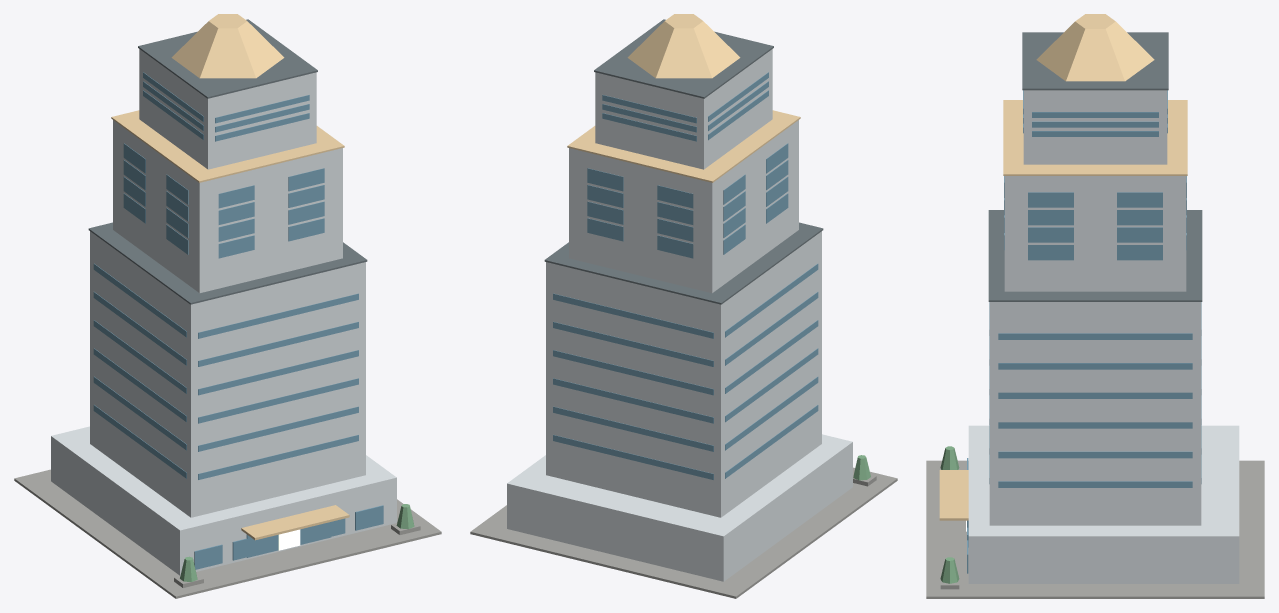
The model's file is crown-quarter.glb.
3 renders of one model, left to right at view 1: azimuth 30°, elevation 25°; view 2: azimuth 150°, elevation 25°; view 3: azimuth 270°, elevation 25°, orthographic. The views are drawn at different scales.
Parts seen in each view (by area): view 1: metro_lower_mass.001, metro_mid_mass.001, metro_podium.001, metro_upper_mass.001, metro_podium_slab.001, metro_crown.001, metro_lower_cornice.001, metro_upper_cornice.001, metro_mid_cornice.001, metro_canopy.001, metro_lower_glass_ns.018, metro_lower_glass_ns.022 (+24 smaller); view 2: metro_lower_mass.001, metro_podium.001, metro_mid_mass.001, metro_upper_mass.001, metro_podium_slab.001, metro_crown.001, metro_lower_cornice.001, metro_upper_cornice.001, metro_mid_cornice.001, metro_lower_glass_ns.019, metro_lower_glass_ns.023, metro_lower_glass_ns.015 (+20 smaller); view 3: metro_lower_mass.001, metro_podium.001, metro_mid_mass.001, metro_podium_slab.001, metro_upper_mass.001, metro_crown.001, metro_lower_cornice.001, metro_mid_cornice.001, metro_upper_cornice.001, metro_lower_glass_ew.015, metro_canopy.001, metro_lower_glass_ew.013 (+15 smaller).
Part boxes in pixels (<box>): metro_lower_mass.001: <box>90,231,365,517</box>; metro_mid_mass.001: <box>113,120,342,293</box>; metro_podium.001: <box>51,426,396,575</box>; metro_upper_mass.001: <box>139,49,316,169</box>; metro_podium_slab.001: <box>14,469,441,598</box>; metro_crown.001: <box>171,14,284,78</box>; metro_lower_cornice.001: <box>88,222,367,304</box>; metro_upper_cornice.001: <box>138,19,317,98</box>; metro_mid_cornice.001: <box>111,110,344,182</box>; metro_canopy.001: <box>241,505,349,540</box>; metro_lower_glass_ns.018: <box>198,350,358,395</box>; metro_lower_glass_ns.022: <box>198,293,358,338</box>; metro_lower_mass.001: <box>546,231,821,517</box>; metro_podium.001: <box>507,434,852,581</box>; metro_mid_mass.001: <box>569,120,798,293</box>; metro_upper_mass.001: <box>595,49,772,169</box>; metro_podium_slab.001: <box>470,467,897,598</box>; metro_crown.001: <box>627,14,740,78</box>; metro_lower_cornice.001: <box>544,222,823,304</box>; metro_upper_cornice.001: <box>594,19,773,98</box>; metro_mid_cornice.001: <box>567,110,800,182</box>; metro_lower_glass_ns.019: <box>553,350,713,395</box>; metro_lower_glass_ns.023: <box>553,293,713,338</box>; metro_lower_glass_ns.015: <box>553,406,713,451</box>; metro_lower_mass.001: <box>989,302,1201,525</box>; metro_podium.001: <box>968,425,1239,583</box>; metro_mid_mass.001: <box>1004,176,1186,291</box>; metro_podium_slab.001: <box>926,460,1264,598</box>; metro_upper_mass.001: <box>1023,90,1167,164</box>; metro_crown.001: <box>1036,14,1154,81</box>; metro_lower_cornice.001: <box>988,210,1202,301</box>; metro_mid_cornice.001: <box>1003,100,1187,175</box>; metro_upper_cornice.001: <box>1022,32,1168,90</box>; metro_lower_glass_ew.015: <box>998,451,1192,458</box>; metro_canopy.001: <box>939,470,968,520</box>; metro_lower_glass_ew.013: <box>998,481,1192,487</box>.
Size of the model in its own units: 38 by 66.44 by 40.
